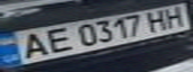0: (75, 20, 100, 47)
1: (109, 15, 130, 39)
3: (93, 18, 115, 44)
7: (124, 12, 145, 37)
A: (12, 29, 54, 61)
E: (36, 25, 75, 54)
H: (142, 7, 172, 33), (160, 4, 190, 29)
